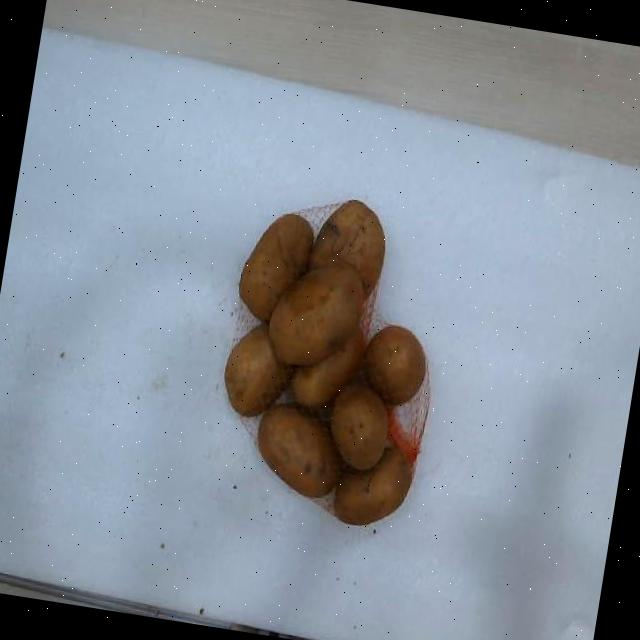potato: (269, 263, 366, 366), (239, 215, 313, 321), (258, 406, 342, 497), (309, 202, 383, 295), (334, 449, 411, 525), (225, 325, 289, 416), (291, 330, 365, 408), (331, 384, 388, 470), (365, 326, 426, 404)
